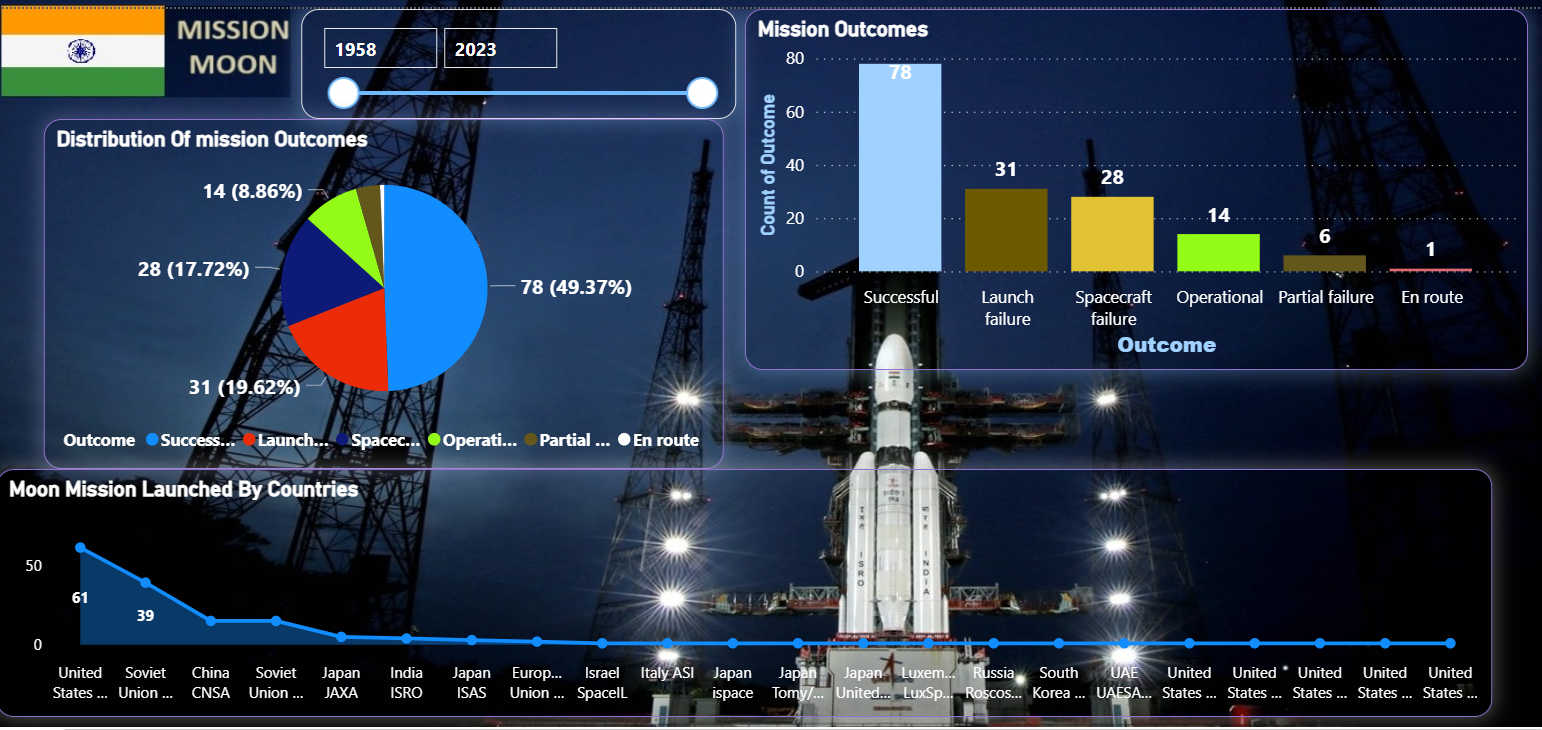

What the dashboard file says about the page in this screenshot:
{"tool":"powerbi","page":{"name":"Dashboard 1","canvas":[1280,720],"ordinal":0},"visuals":[{"type":"slicer","fields":{"Values":["Moonlanding.Launch Date.Variation.Date Hierarchy.Year"]},"box":[285,0,348,88],"z":0},{"type":"columnChart","title":"Mission Outcomes","fields":{"Category":["Moonlanding.Outcome"],"Y":["CountNonNull(Moonlanding.Outcome)"]},"box":[640,0,627,289],"z":1000},{"type":"pieChart","title":"Distribution Of mission Outcomes","fields":{"Category":["Moonlanding.Outcome"],"Y":["CountNonNull(Moonlanding.Outcome)"]},"box":[79,88,544,280],"z":2000},{"type":"stackedAreaChart","title":"Moon Mission Launched By Countries","fields":{"Category":["Moonlanding.Operator"],"Y":["CountNonNull(Moonlanding.Outcome)"]},"box":[41,368,1197,199],"z":3000}]}

Visuals, with their boxes on the page's 1280x720 design canvas (x1, y1, x2, y2). These are canvas units, not pixel positions in the 1542x730 screenshot, which may show the page scaled, cropped or inside an application window:
slicer - Moonlanding.Launch Date.Variation.Date Hierarchy.Year: 285, 0, 633, 88
"Mission Outcomes" columnChart: 640, 0, 1267, 289
"Distribution Of mission Outcomes" pieChart: 79, 88, 623, 368
"Moon Mission Launched By Countries" stackedAreaChart: 41, 368, 1238, 567
